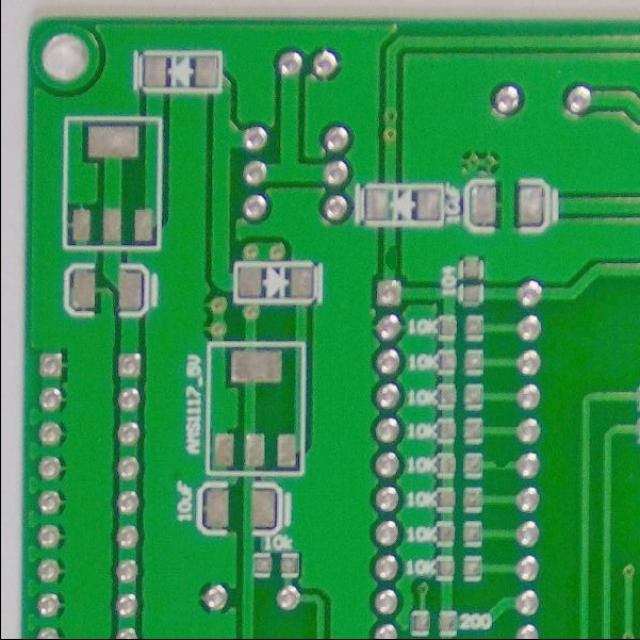mouse_bite: (381, 240, 405, 278), (490, 456, 511, 473)
